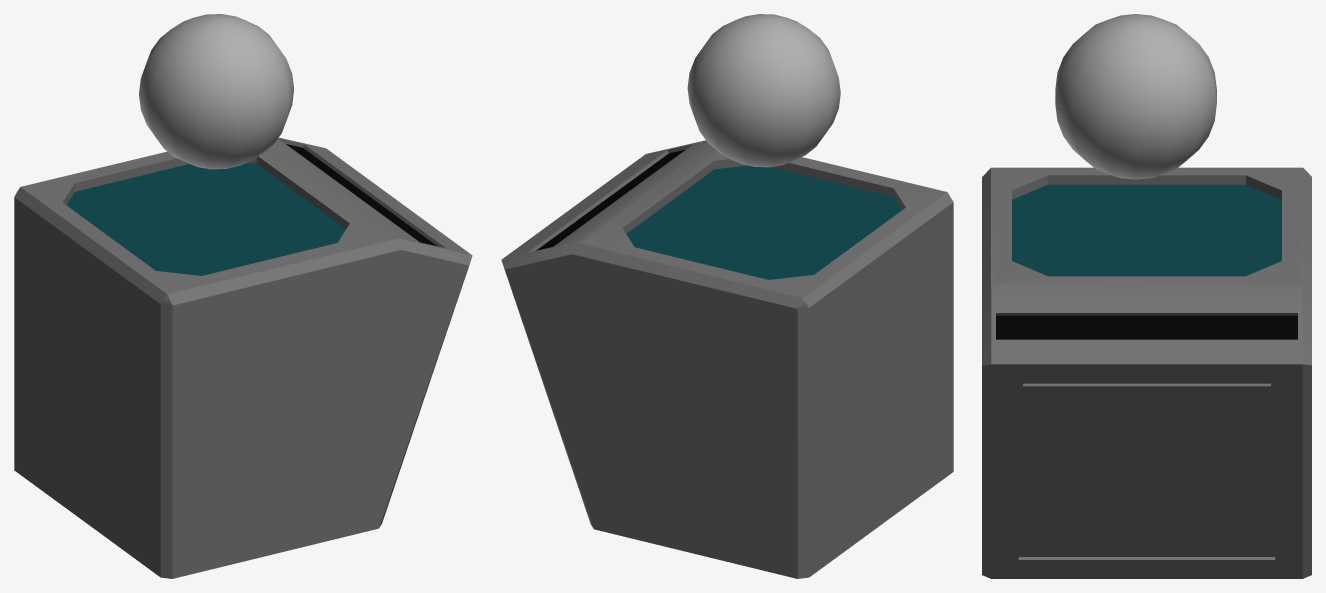
File: Distributeur.fbx
The picture shows the model from 3 angles, left to right: view 1: azimuth 30°, elevation 25°; view 2: azimuth 150°, elevation 25°; view 3: azimuth 270°, elevation 25°; orthographic projection. The views are drawn at different scales.
Parts seen in each view (by area): view 1: distrib, recharge; view 2: distrib, recharge; view 3: distrib, recharge.
Part boxes in pixels (x1,y1,x2,y2): distrib: (14, 137, 472, 578); recharge: (139, 14, 294, 169); distrib: (501, 140, 953, 578); recharge: (687, 14, 840, 167); distrib: (982, 167, 1311, 578); recharge: (1055, 14, 1216, 179).
Bounding box in the file's own units: 1.05 × 1.53 × 0.9009.
